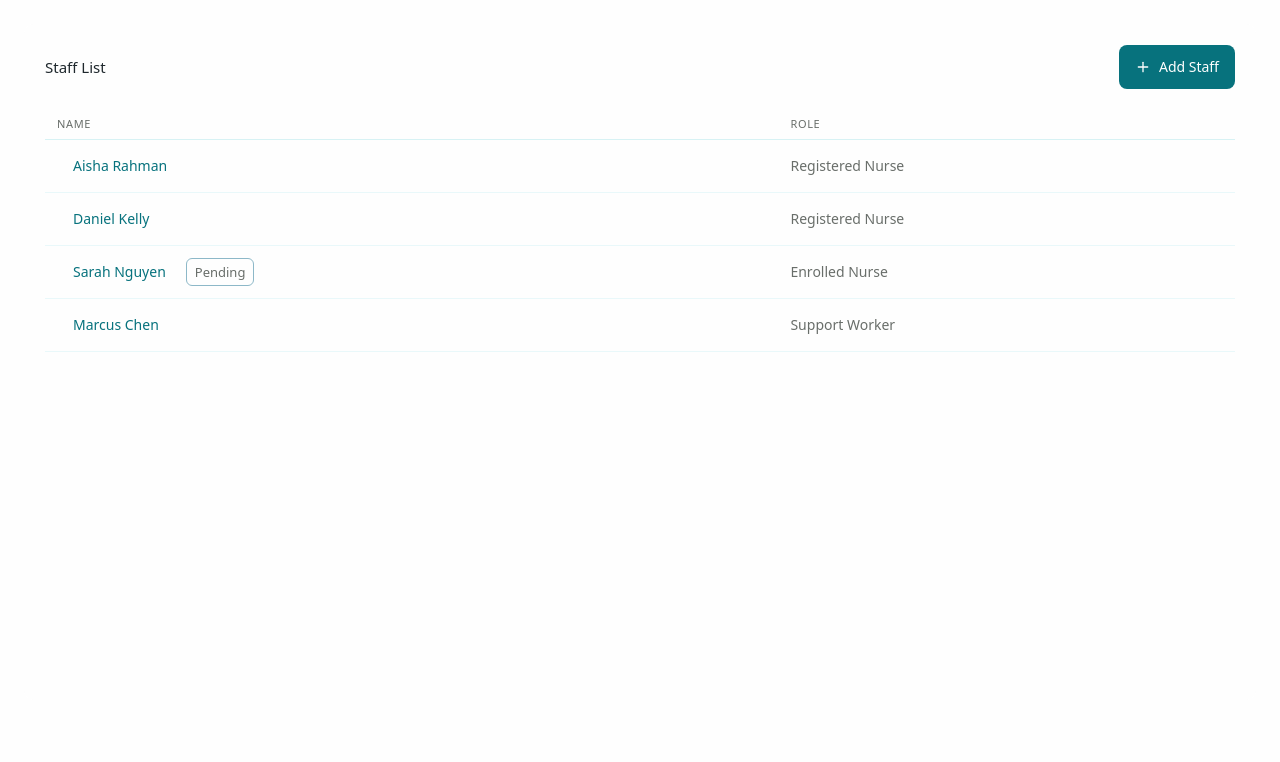
it: [ADM-08][FD-07] Pending carers › [ADM-08][FD-07] labels an invited carer Pending in the list and in their panel
Expected: the text "Pending" is shown, [186,258,254,286]
Step 1. Click the button with aria-label "Edit Sarah Nguyen" → [119, 272], box [57,250,182,294]
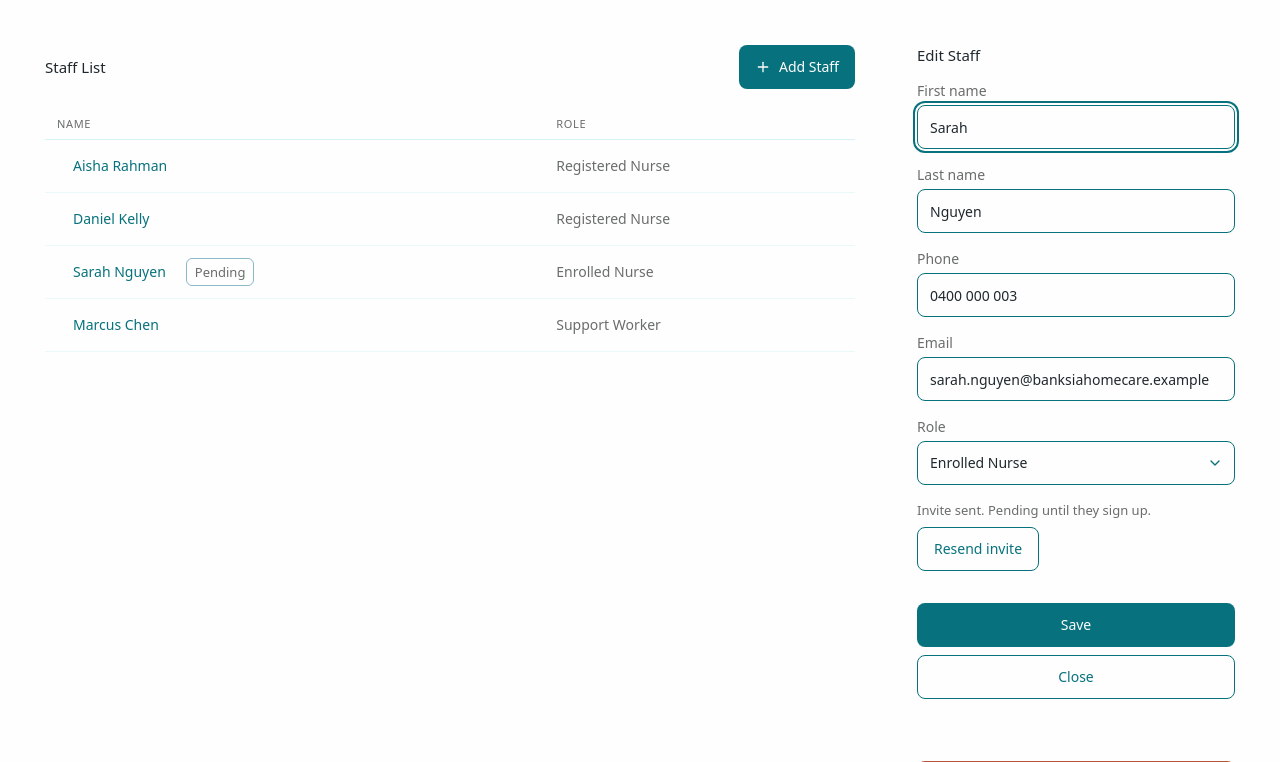
Result: the text "Invite sent. Pending until they sign up." is shown at [917,501,1151,519]
